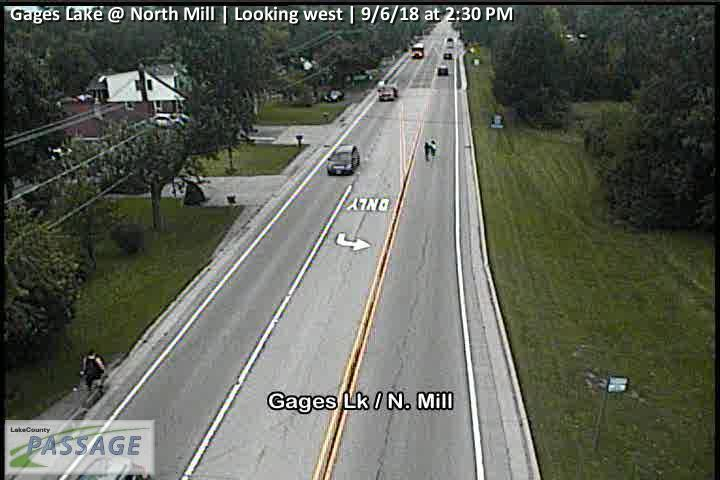Bus: (411, 43, 425, 59)
Sedan: (326, 145, 360, 175), (377, 84, 398, 99), (322, 88, 343, 101), (436, 65, 448, 74), (444, 51, 452, 59), (447, 38, 453, 47)
